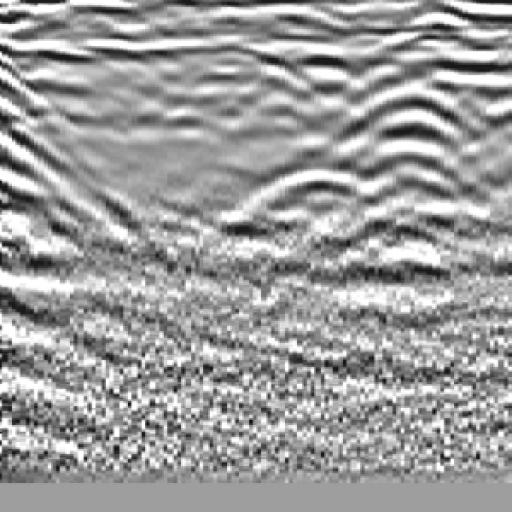metalic: (208, 36, 388, 273)
nonmetalic: (1, 50, 122, 293)
